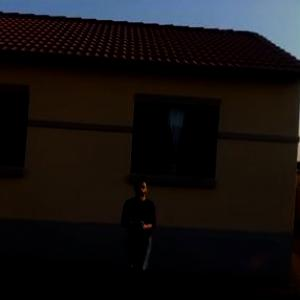follow: (117, 172, 160, 299)
